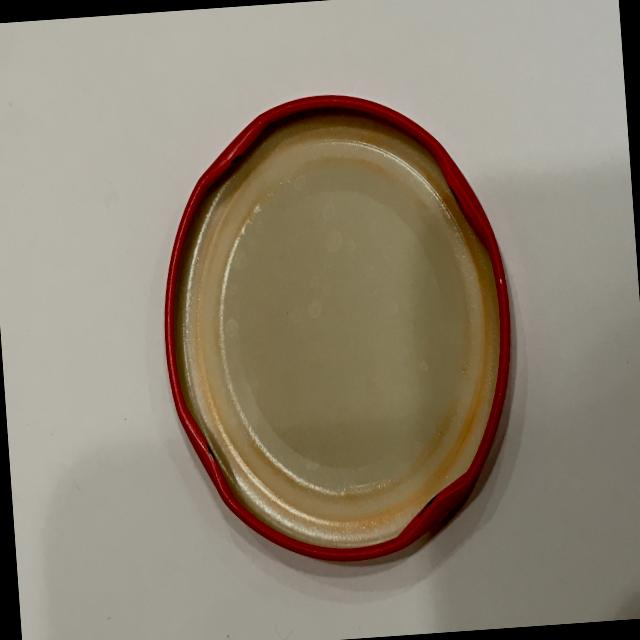Metal: (132, 54, 554, 592)
